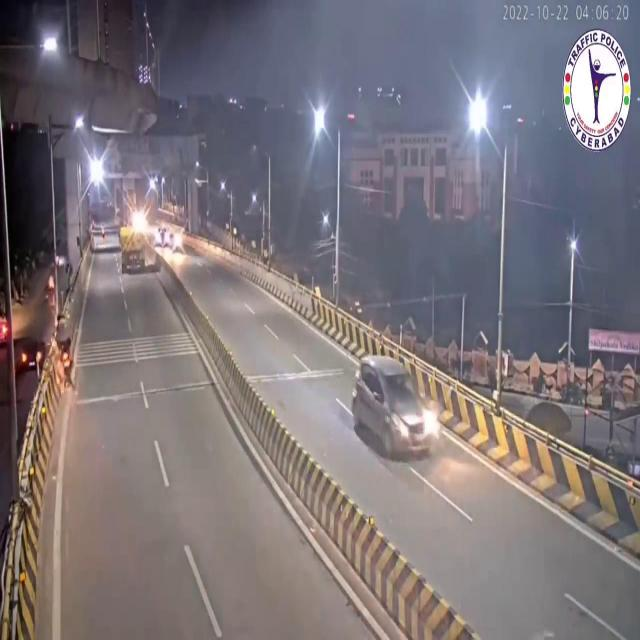accident: (52, 326, 80, 395)
